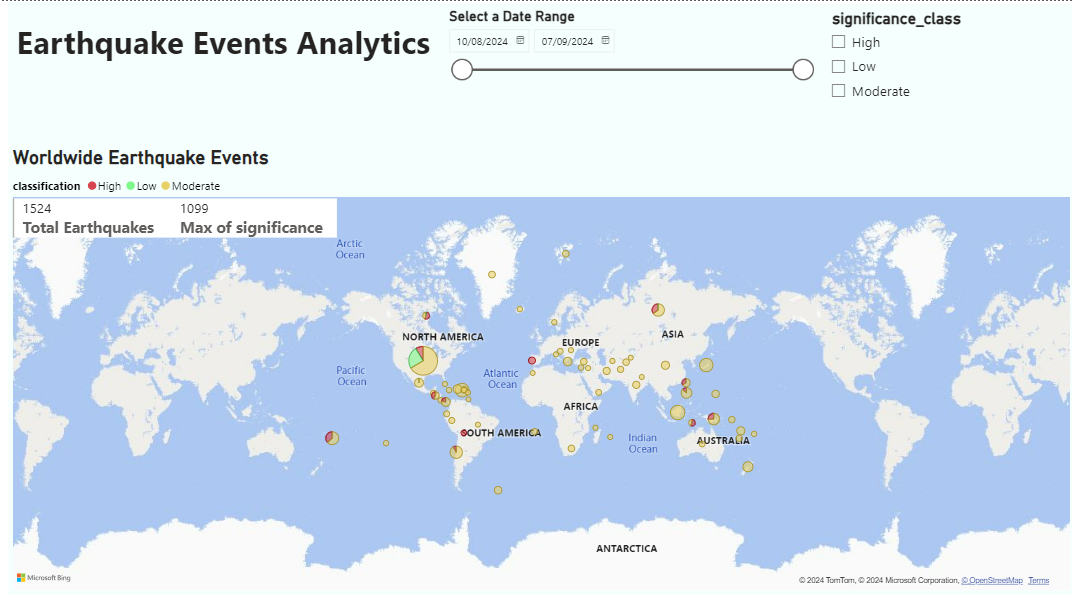

Layout of this report page (visuals, bound fields, positions):
{"tool":"powerbi","page":{"name":"Page 2","canvas":[1280,720],"ordinal":1},"visuals":[{"type":"map","title":"Worldwide Earthquake Events","fields":{"Category":["earthquake_events_gold.country_code"],"Size":["Sum(earthquake_events_gold.significance)"],"Series":["earthquake_events_gold.significance_class"]},"box":[11.2,172.5,1268.8,533.8],"z":0},{"type":"slicer","fields":{"Values":["earthquake_events_gold.time"]},"box":[522.9,2.9,455.7,172.9],"z":1000},{"type":"slicer","fields":{"Values":["earthquake_events_gold.significance_class"]},"box":[978.6,4.3,301.4,172.9],"z":2000},{"type":"multiRowCard","fields":{"Values":["earthquake_events_gold.id","Max(earthquake_events_gold.significance)"]},"box":[12,230,396,76],"z":3000},{"type":"textbox","box":[11.4,0,511.4,172.9],"z":4000}]}

Visuals, with their boxes in screenshot pixels (x1, y1, x2, y2), scaled from the page's 1280x720 canvas onto the 1072x604 screenshot:
"Worldwide Earthquake Events" map: detection(9, 145, 1071, 593)
slicer - earthquake_events_gold.time: detection(438, 2, 820, 147)
slicer - earthquake_events_gold.significance_class: detection(820, 4, 1071, 149)
multiRowCard - earthquake_events_gold.id x Max(earthquake_events_gold.significance): detection(10, 193, 342, 257)
textbox: detection(10, 0, 438, 145)
